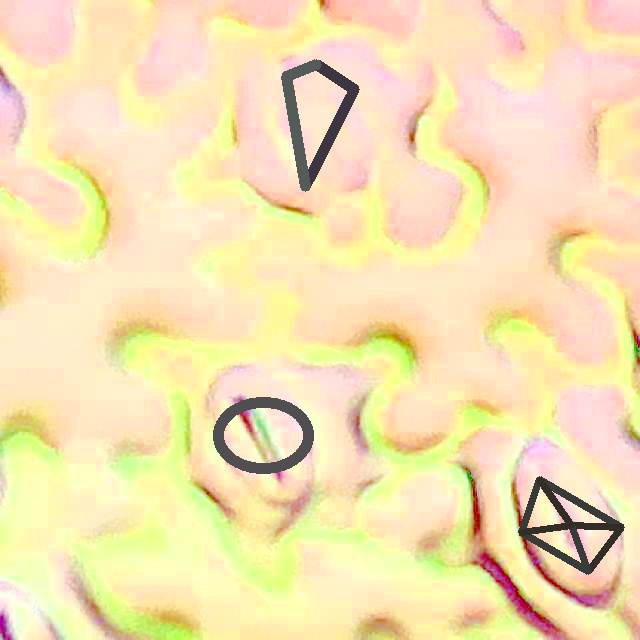close: (282, 59, 359, 191)
open: (518, 476, 624, 574), (213, 396, 313, 474)
